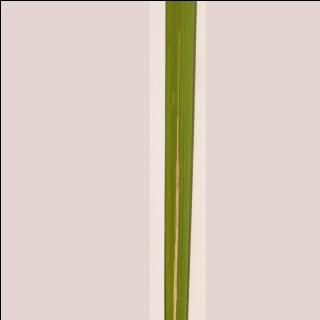Hawar-Daun: (157, 26, 196, 320)
